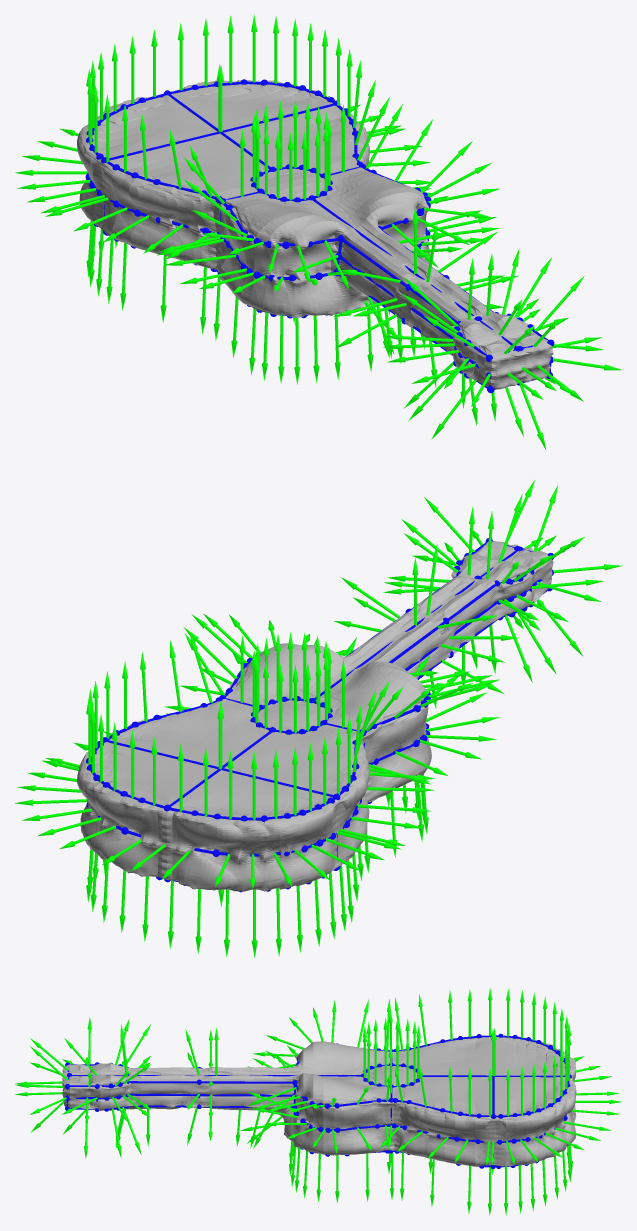
Rendered from t2f_guitar.gltf.
3 views of the same model, one above another, from view 1: azimuth 30°, elevation 25°; view 2: azimuth 150°, elevation 25°; view 3: azimuth 270°, elevation 25° (orthographic). The views are drawn at different scales.
Size of the model in its own units: 0.5511 by 0.3037 by 1.13.
